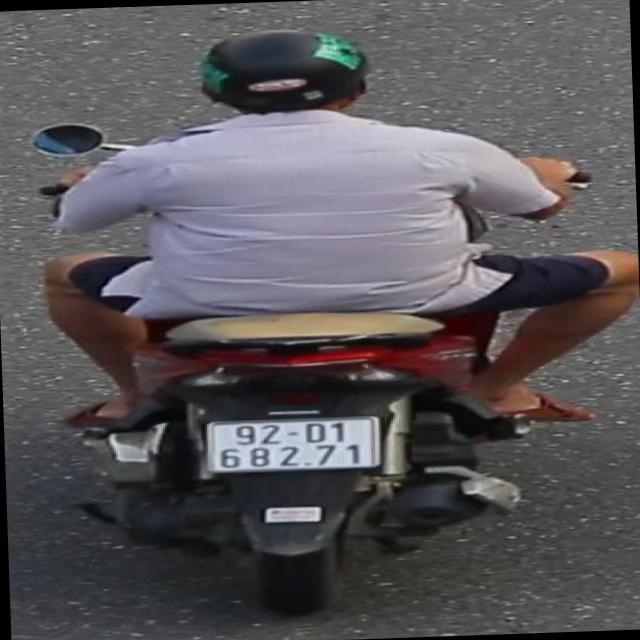LP: (198, 408, 388, 476)
helmet: (185, 23, 379, 131)
